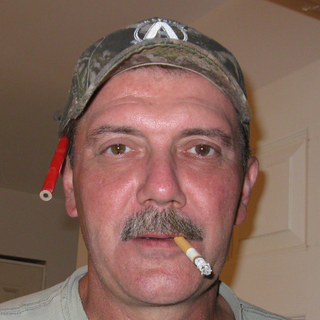eye: (90, 132, 149, 164), (172, 134, 225, 167)
